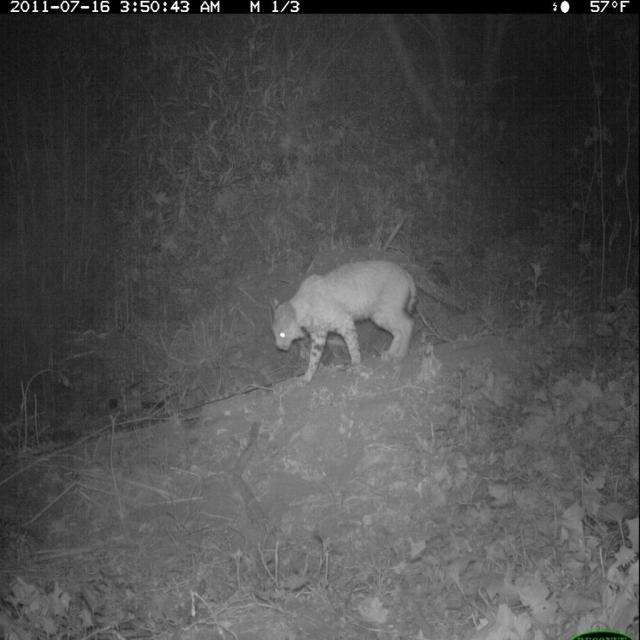bobcat: (266, 255, 421, 391)
